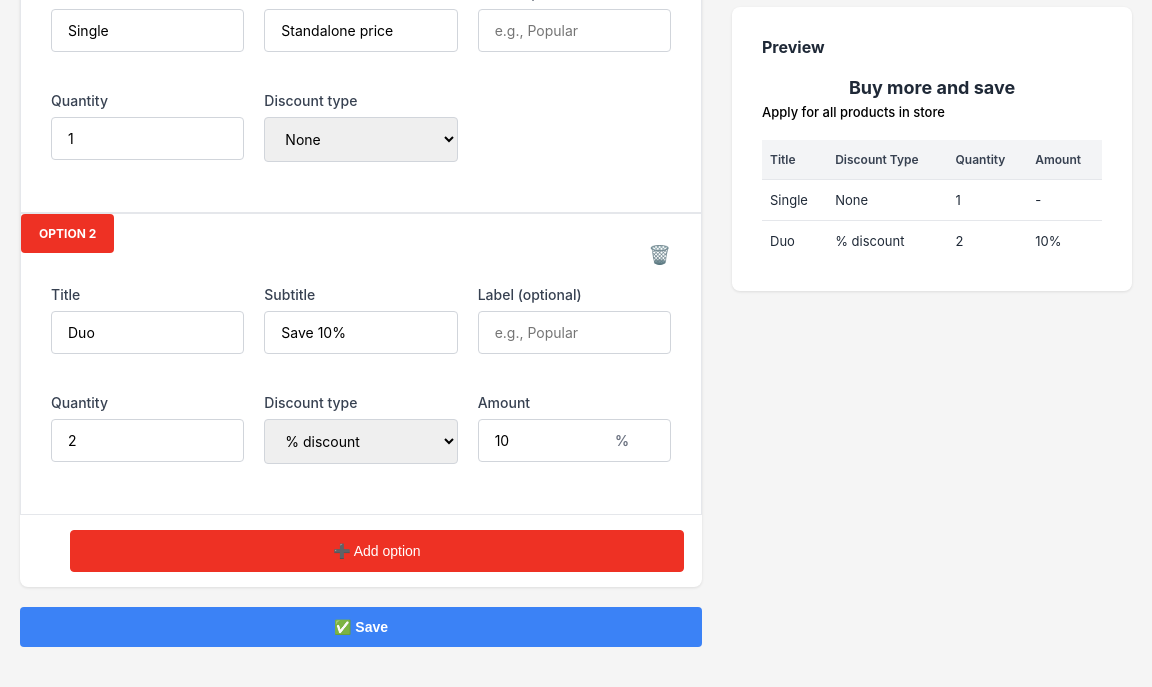
Test: VolumeDiscountForm Component › Form Submission › clears previous error message when retrying submission
(page scrolled)
Click the button "✅ Save": (361, 627) [20,607,702,647]
(page scrolled)
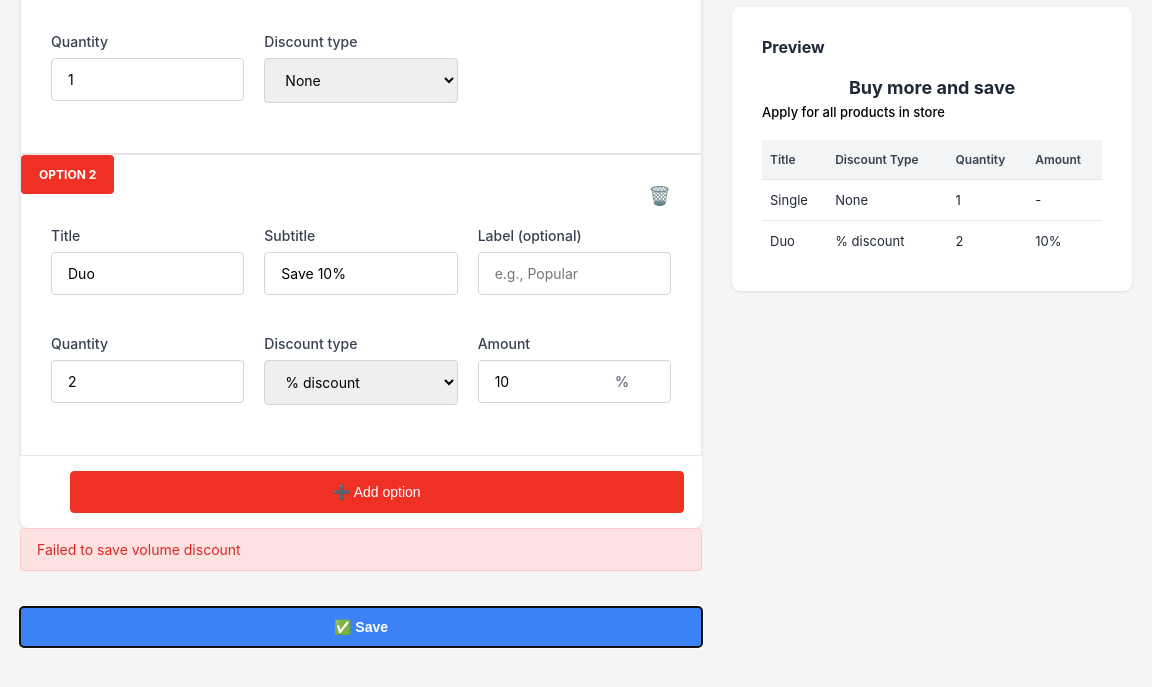
Expected: the text "Failed to save volume discount" is shown, [20,528,702,571]
Note: Click save again
Click the button "✅ Save": (361, 627) [20,607,702,647]
(page scrolled)
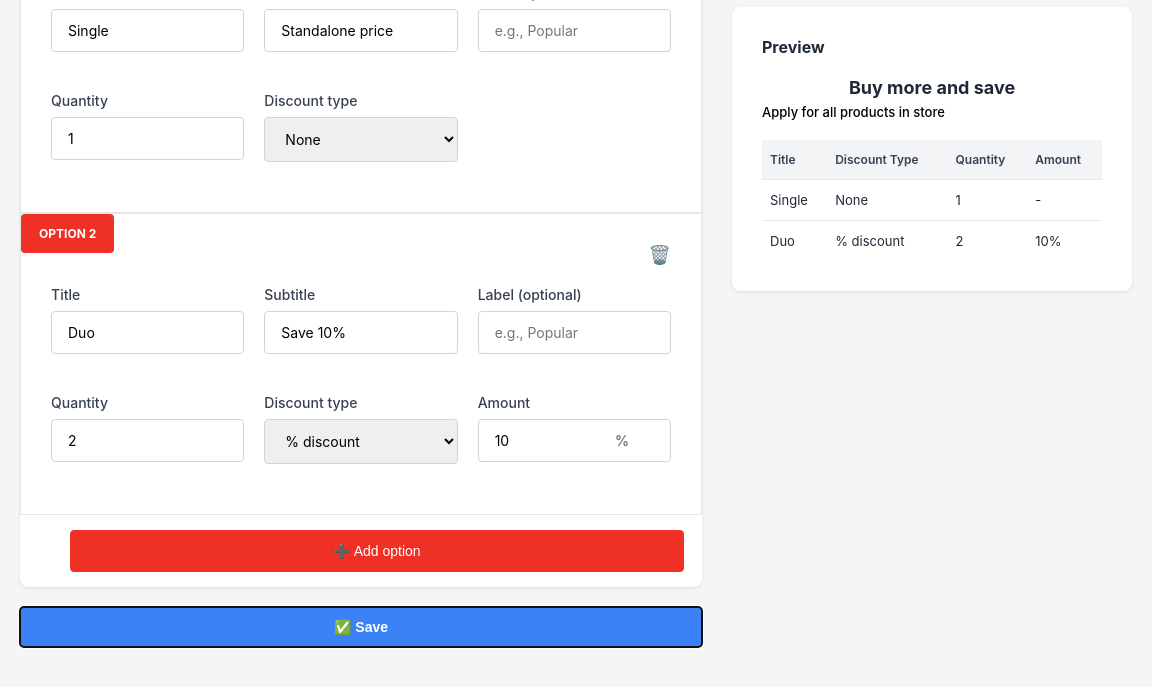
Expected: the text "Failed to save volume discount" is gone
